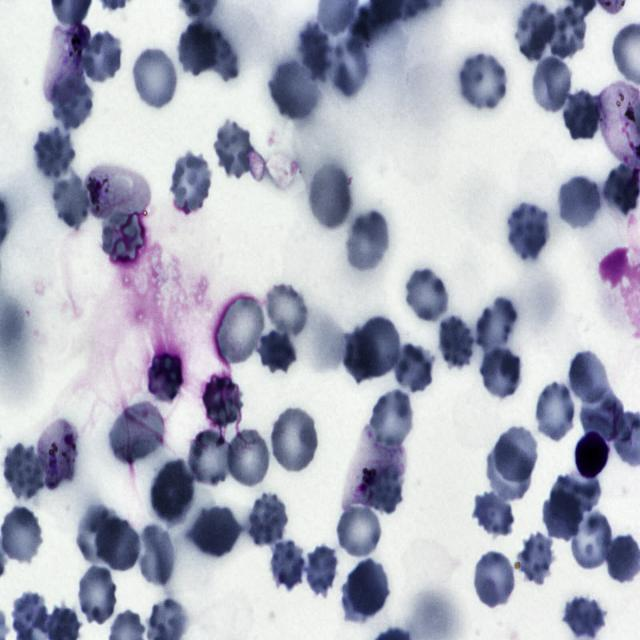leukocyte: (575, 429, 609, 484)
red blood cell: (110, 400, 166, 466), (186, 427, 236, 490), (268, 60, 320, 120), (271, 407, 318, 472), (218, 298, 264, 364), (75, 503, 122, 567), (533, 380, 579, 444), (470, 550, 518, 610), (150, 459, 196, 520), (2, 441, 46, 503), (188, 506, 240, 556), (475, 296, 518, 356), (170, 153, 212, 214), (346, 210, 388, 271), (199, 373, 243, 431), (358, 316, 399, 378), (459, 54, 506, 108), (310, 165, 350, 228), (346, 558, 390, 615), (550, 470, 601, 519), (134, 49, 177, 107), (495, 424, 538, 482), (95, 516, 141, 570), (508, 202, 550, 261), (516, 1, 556, 62), (371, 390, 414, 446), (488, 443, 531, 498), (228, 429, 268, 486), (532, 55, 572, 112), (572, 513, 612, 570), (34, 126, 76, 180), (52, 74, 93, 129), (78, 567, 116, 626), (138, 525, 175, 585), (214, 120, 252, 178), (580, 390, 624, 440), (336, 506, 379, 557), (178, 20, 217, 76), (332, 35, 367, 97), (1, 508, 41, 562), (405, 270, 448, 320), (562, 89, 602, 142), (268, 539, 307, 593), (559, 177, 601, 227), (266, 284, 308, 334), (298, 23, 333, 83), (547, 4, 586, 57), (569, 351, 608, 404), (516, 531, 554, 585), (82, 30, 120, 84), (51, 174, 89, 228), (249, 494, 287, 547), (394, 342, 434, 392), (481, 349, 521, 398), (602, 164, 640, 215), (472, 492, 514, 538), (342, 328, 377, 383), (562, 597, 606, 639), (305, 543, 338, 598), (439, 316, 473, 368), (544, 494, 582, 540), (257, 330, 297, 372), (149, 354, 183, 401)
trophozoite: (342, 427, 404, 508), (44, 21, 90, 101), (86, 166, 150, 220), (34, 419, 80, 491)
